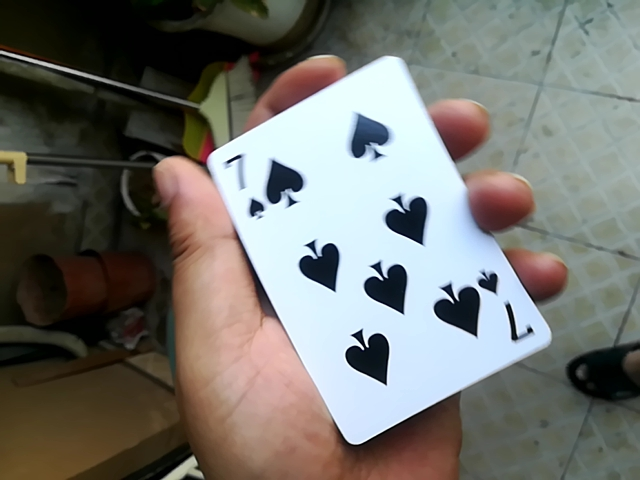ht 7: (204, 52, 548, 451)
